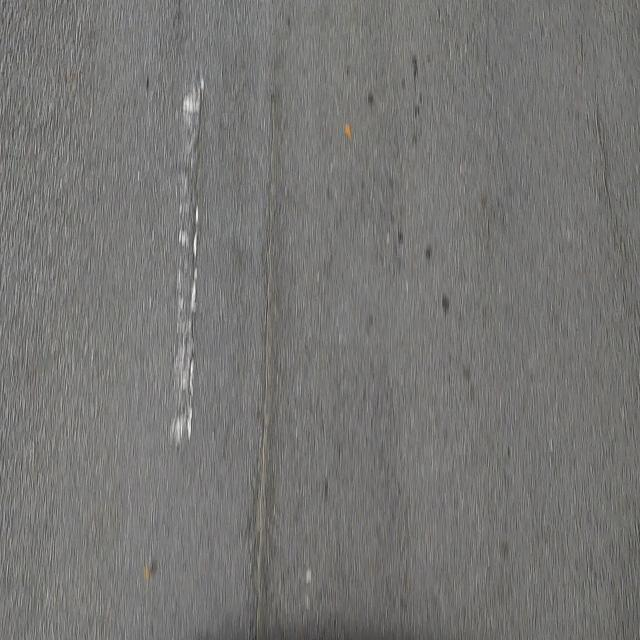Retak-Memanjang: (250, 85, 284, 634), (175, 78, 210, 444), (589, 113, 630, 290)
